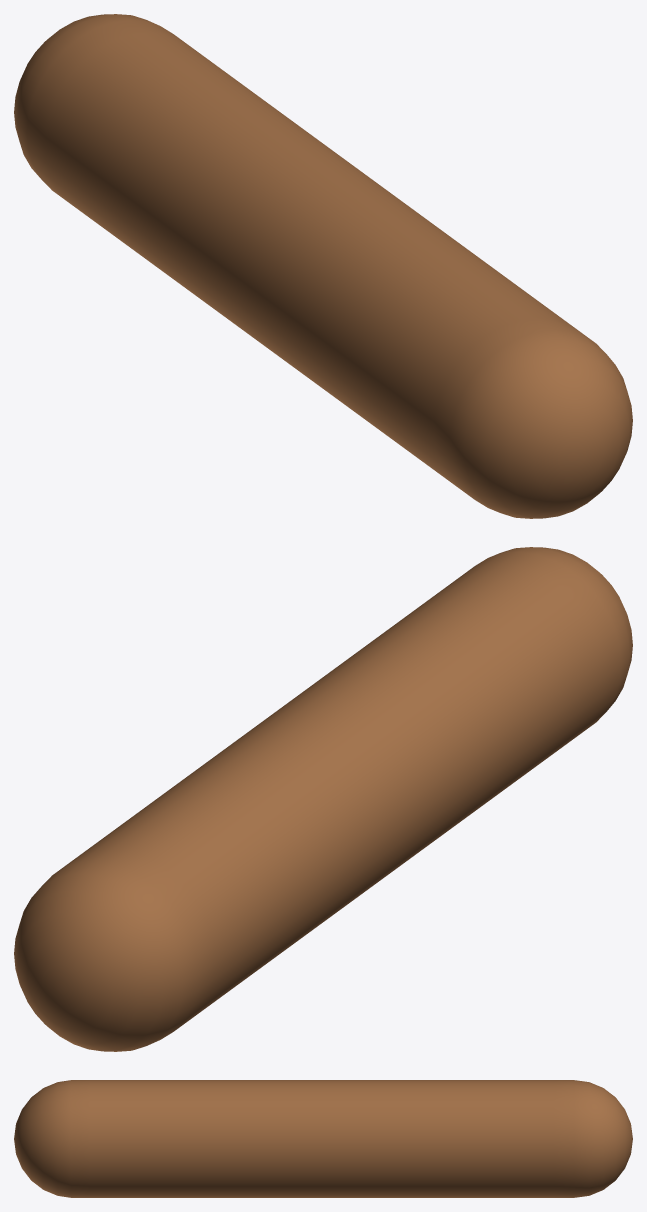
The model's file is Tri-Limbus (Boneless).fbx.
3 renders of one model, top to bottom at view 1: azimuth 30°, elevation 25°; view 2: azimuth 150°, elevation 25°; view 3: azimuth 270°, elevation 25°, orthographic. The views are drawn at different scales.
Visible parts, largest first — view 1: Tri-Limbus - Daniel Lochner; view 2: Tri-Limbus - Daniel Lochner; view 3: Tri-Limbus - Daniel Lochner.
Part boxes in pixels (x1,y1,x2,y2): Tri-Limbus - Daniel Lochner: [14, 14, 632, 518]; Tri-Limbus - Daniel Lochner: [14, 547, 632, 1051]; Tri-Limbus - Daniel Lochner: [14, 1080, 632, 1197].
Bounding box in the file's own units: 46.8 × 46.8 × 246.
